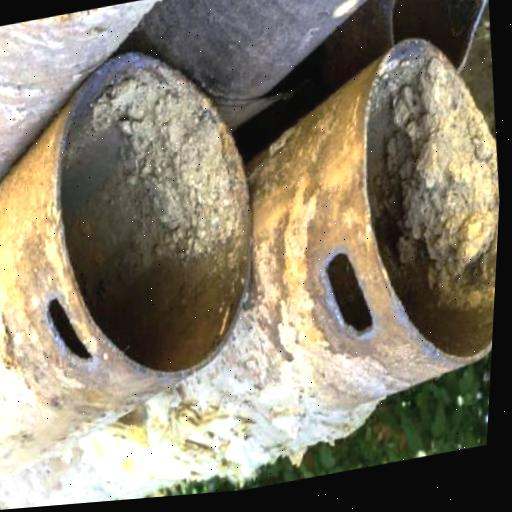corrosion: (0, 99, 200, 414), (250, 89, 445, 359)
